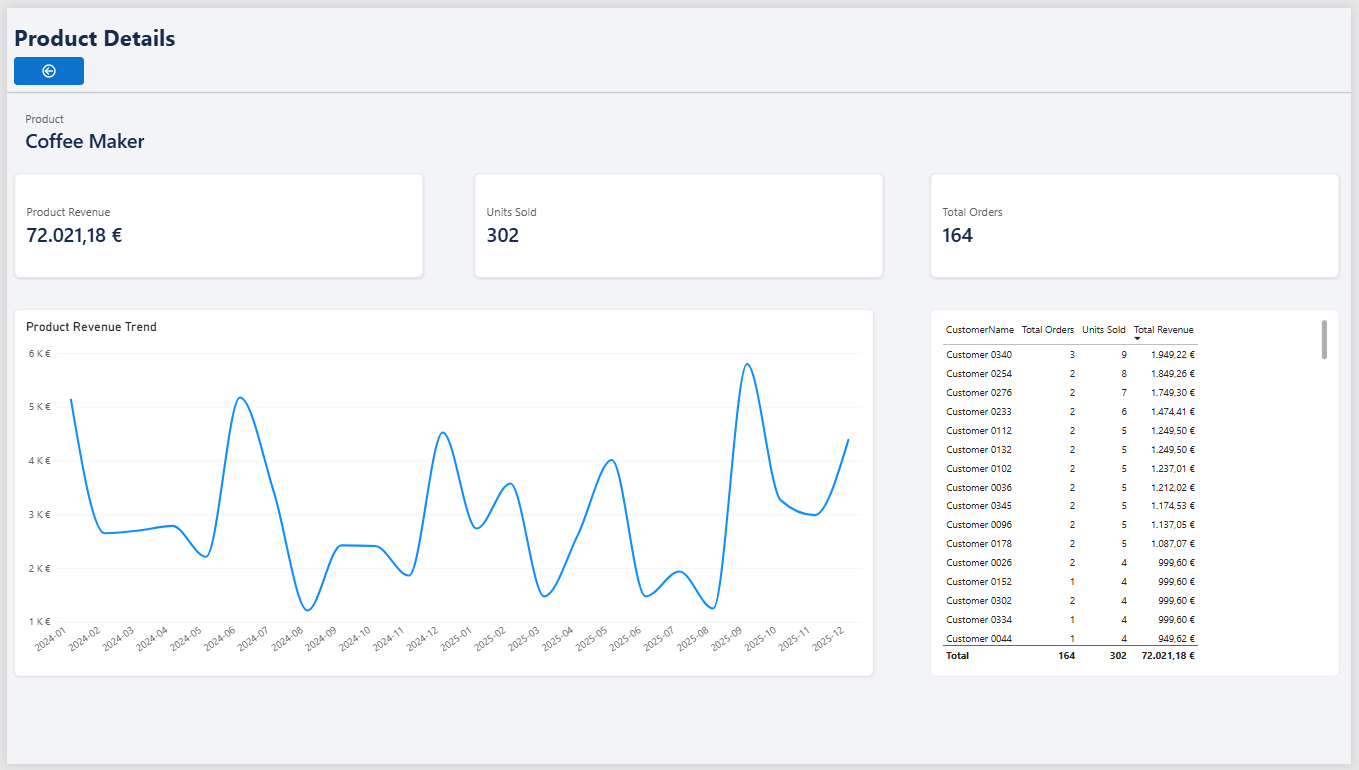

This screenshot's page, from the dashboard's own definition file:
{"tool":"powerbi","page":{"name":"Product Details ","canvas":[1920,1080],"ordinal":6},"visuals":[{"type":"textbox","box":[10,18.6,280,51.4],"z":0},{"type":"shape","box":[0,101.1,1920.6,38.6],"z":1000},{"type":"actionButton","box":[10,70,100,40],"z":2000},{"type":"cardVisual","fields":{"Data":["_Measures.Total Revenue"]},"box":[10,235,585,150],"z":3000},{"type":"cardVisual","fields":{"Data":["_Measures.Units Sold"]},"box":[666.7,235,585,150],"z":4000},{"type":"cardVisual","fields":{"Data":["_Measures.Total Orders"]},"box":[1318.3,235,585,150],"z":5000},{"type":"lineChart","title":"Product Revenue Trend","fields":{"Category":["DimDate.YearMonth"],"Y":["_Measures.Total Revenue"]},"box":[10,430,1228.3,525],"z":6000},{"type":"tableEx","fields":{"Values":["DimCustomers.CustomerName","_Measures.Total Orders","_Measures.Units Sold","_Measures.Total Revenue"]},"box":[1318.3,430,585,525],"z":7000},{"type":"cardVisual","fields":{"Data":["_Measures.Selected Product"]},"box":[10,120,235,115],"z":8000}]}

Visuals, with their boxes in screenshot pixels (x1, y1, x2, y2), scaled from the page's 1920x1080 canvas onto the 1359x770 screenshot:
textbox: l=7, t=13, r=205, b=50
shape: l=0, t=72, r=1358, b=100
actionButton: l=7, t=50, r=78, b=78
cardVisual - _Measures.Total Revenue: l=7, t=168, r=421, b=274
cardVisual - _Measures.Units Sold: l=472, t=168, r=886, b=274
cardVisual - _Measures.Total Orders: l=933, t=168, r=1347, b=274
"Product Revenue Trend" lineChart: l=7, t=307, r=876, b=681
tableEx - DimCustomers.CustomerName x _Measures.Total Orders: l=933, t=307, r=1347, b=681
cardVisual - _Measures.Selected Product: l=7, t=86, r=173, b=168
